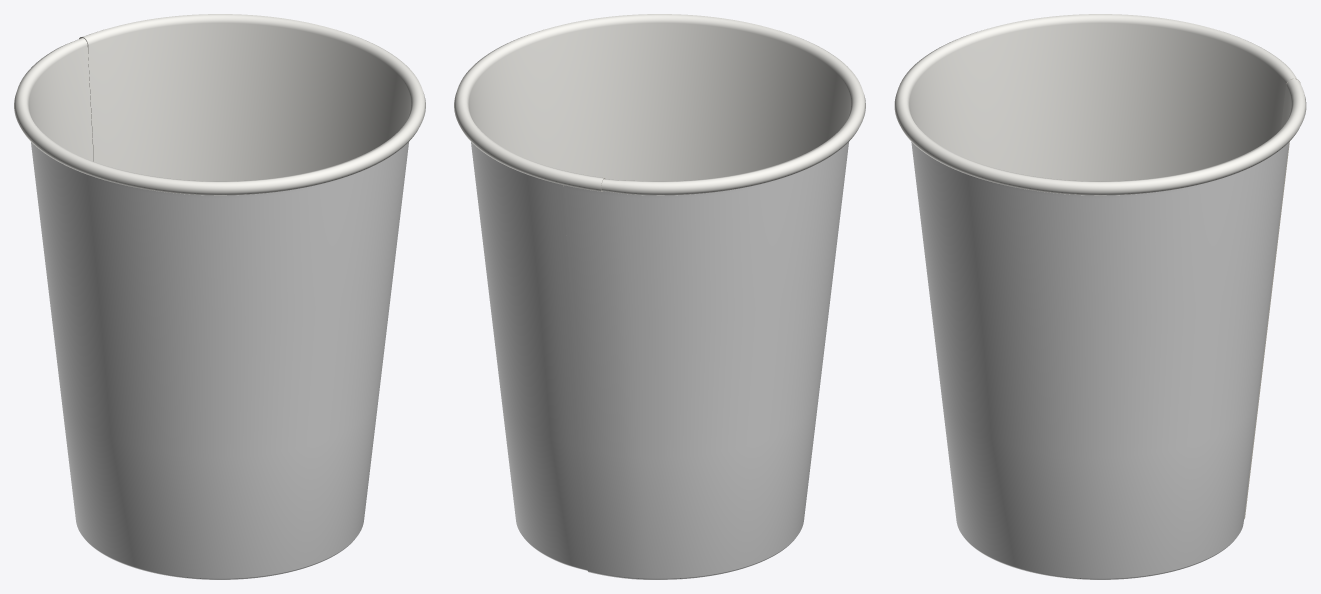
The picture shows the model from 3 angles, left to right: view 1: azimuth 30°, elevation 25°; view 2: azimuth 150°, elevation 25°; view 3: azimuth 270°, elevation 25°; orthographic projection.
Parts seen in each view (by area): view 1: Cup_Wall; view 2: Cup_Wall; view 3: Cup_Wall.
Boxes of the visible parts, x1,y1,x2,y2 form: Cup_Wall: (14,14,425,579); Cup_Wall: (454,14,865,579); Cup_Wall: (894,14,1306,579).
Size of the model in its own units: 0.0704 by 0.0796 by 0.0704.
Materials: 3 (1 with a texture image).
